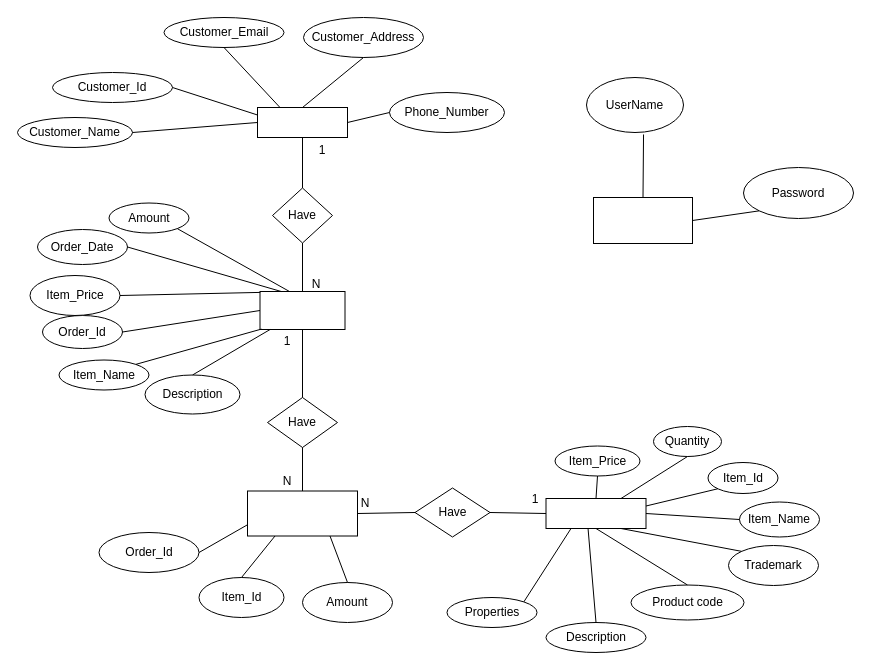
The diagram is 871 pixels wide and 670 high, and some of its shapes have lost their labels. The box of each missing label's shape, as (x1, y1, x2, y2) in pixels:
Customer: (256, 106, 348, 138)
Item: (545, 498, 646, 528)
Order: (259, 290, 345, 330)
OrderDetail: (246, 490, 358, 536)
User: (592, 196, 692, 244)
